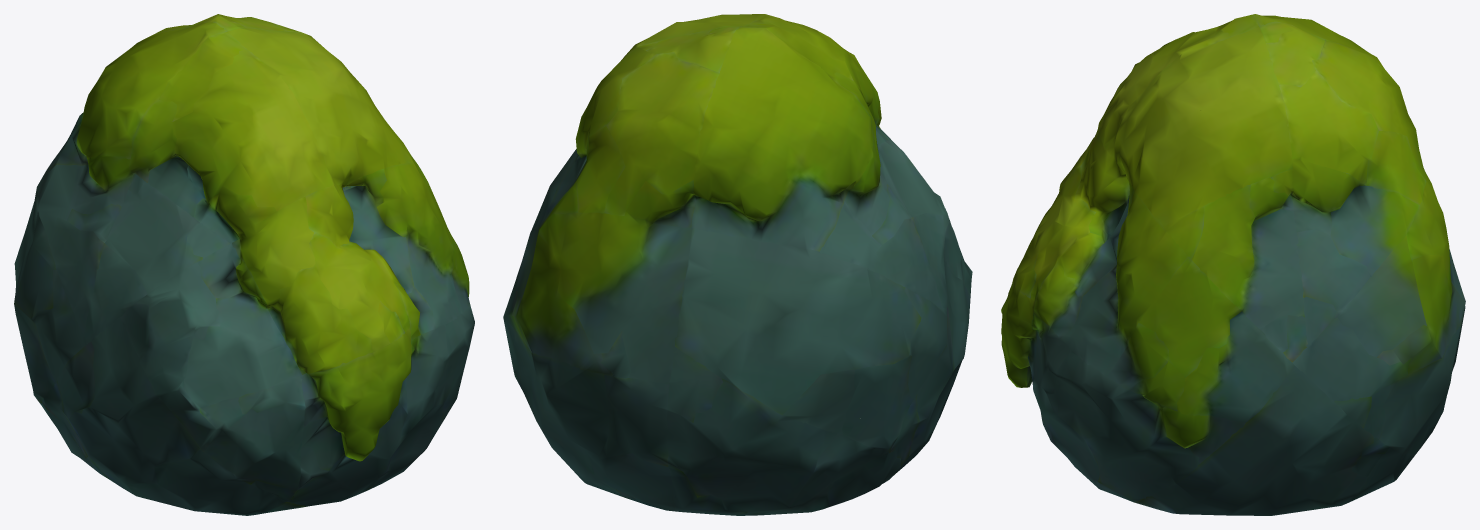
The model's file is glaz.glb.
3 views of the same model, side by side, from view 1: azimuth 30°, elevation 25°; view 2: azimuth 150°, elevation 25°; view 3: azimuth 270°, elevation 25° (orthographic). The views are drawn at different scales.
Parts seen in each view (by area): view 1: tripo_node_53ce7025-8b7a-4786-84ea-a053316f7f8f; view 2: tripo_node_53ce7025-8b7a-4786-84ea-a053316f7f8f; view 3: tripo_node_53ce7025-8b7a-4786-84ea-a053316f7f8f.
Boxes of the visible parts, <box> form: tripo_node_53ce7025-8b7a-4786-84ea-a053316f7f8f: <box>14,14,474,515</box>; tripo_node_53ce7025-8b7a-4786-84ea-a053316f7f8f: <box>503,14,972,515</box>; tripo_node_53ce7025-8b7a-4786-84ea-a053316f7f8f: <box>1001,14,1465,515</box>.
Bounding box in the file's own units: 0.9406 × 0.9711 × 0.9796.
1 material, 1 textured.
